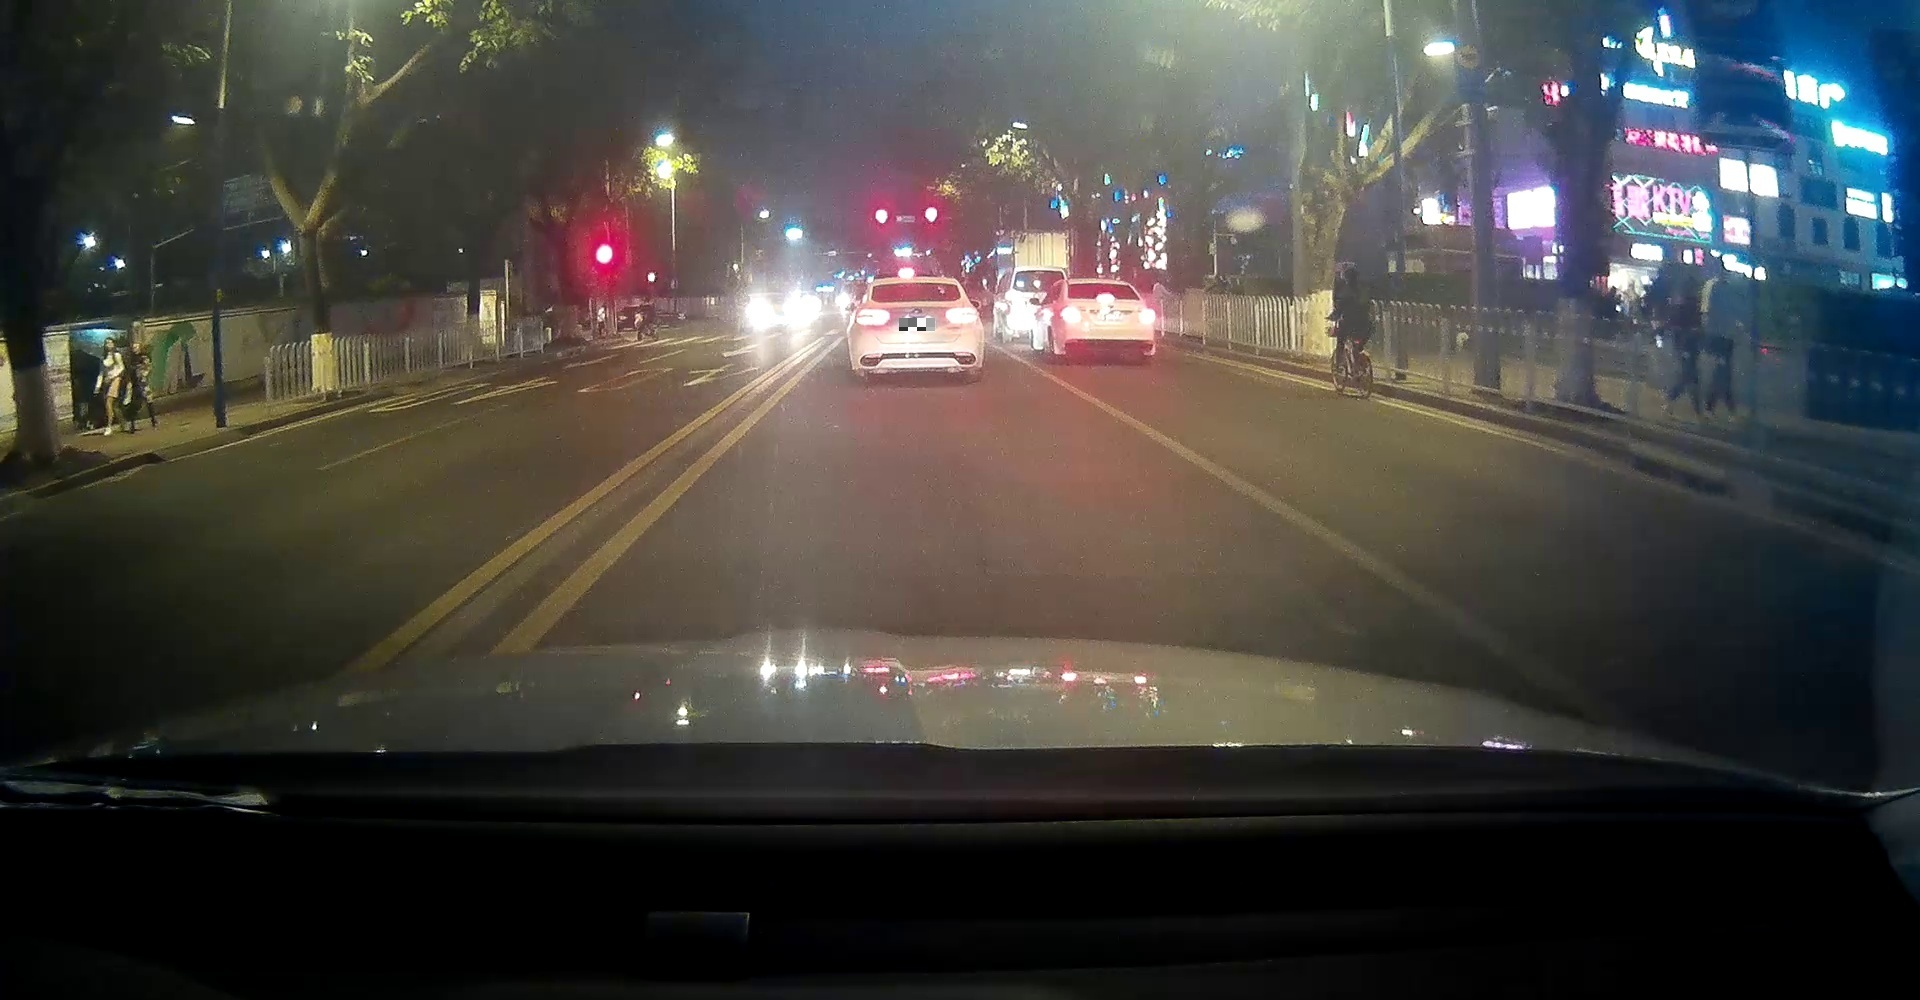L_light: (855, 308, 891, 326), (1059, 306, 1083, 324)
R_light: (945, 307, 979, 324), (1138, 308, 1156, 325)
T_light: (1096, 294, 1115, 302), (909, 283, 930, 287)
night-brake: (1059, 277, 1157, 363)
night-no: (846, 275, 983, 385)
plate_1: (899, 319, 935, 331)
